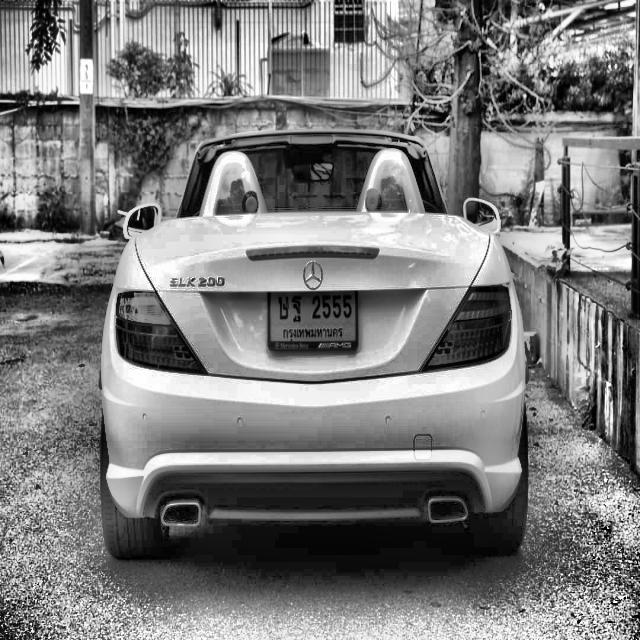license-plate: (261, 284, 367, 356)
